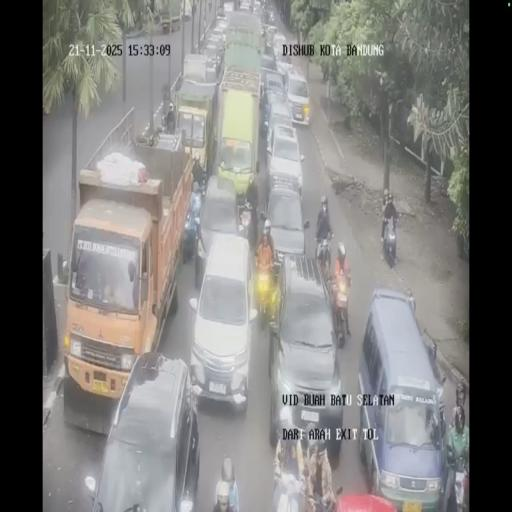car: (358, 291, 446, 505), (86, 354, 198, 509), (268, 256, 342, 451), (196, 174, 243, 283), (264, 187, 305, 265), (266, 119, 304, 198), (260, 70, 288, 133), (283, 64, 310, 128), (203, 40, 223, 77), (260, 50, 278, 74), (265, 24, 278, 52), (215, 4, 228, 20), (239, 0, 252, 12), (253, 0, 261, 14)
motorcycle: (441, 438, 469, 512), (256, 257, 280, 328), (330, 270, 352, 344), (381, 215, 398, 266), (238, 197, 254, 245), (315, 232, 332, 274)
truck: (212, 66, 262, 207), (173, 74, 217, 181), (223, 11, 262, 68)
